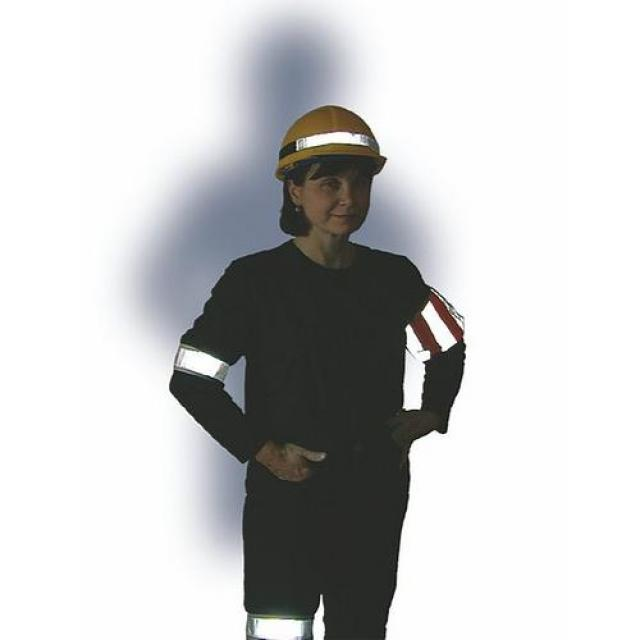Safety-Helmet: (261, 99, 396, 188)
